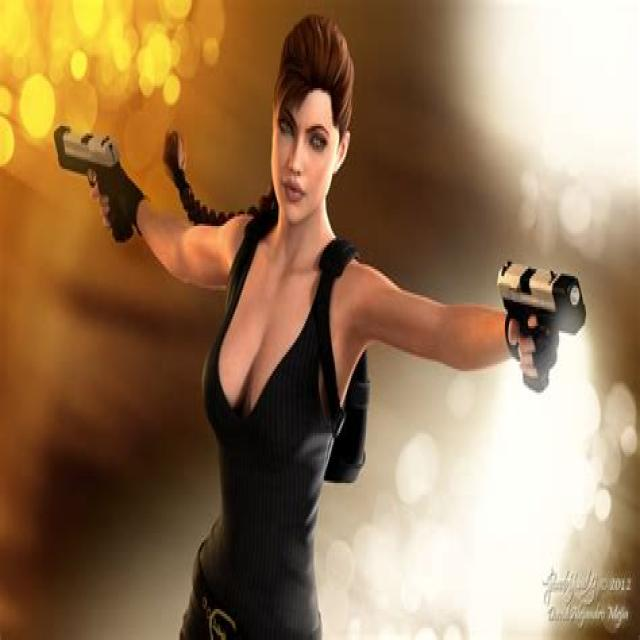weapons: (487, 246, 604, 392), (49, 110, 146, 260)
